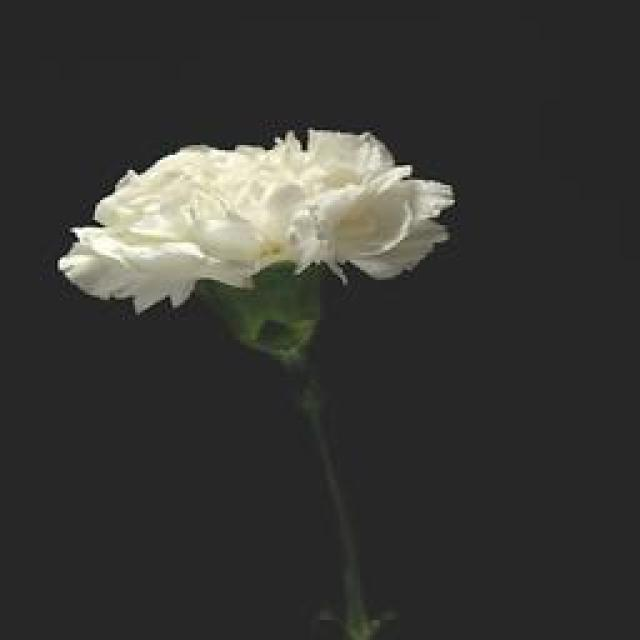carnation: (50, 106, 455, 353)
